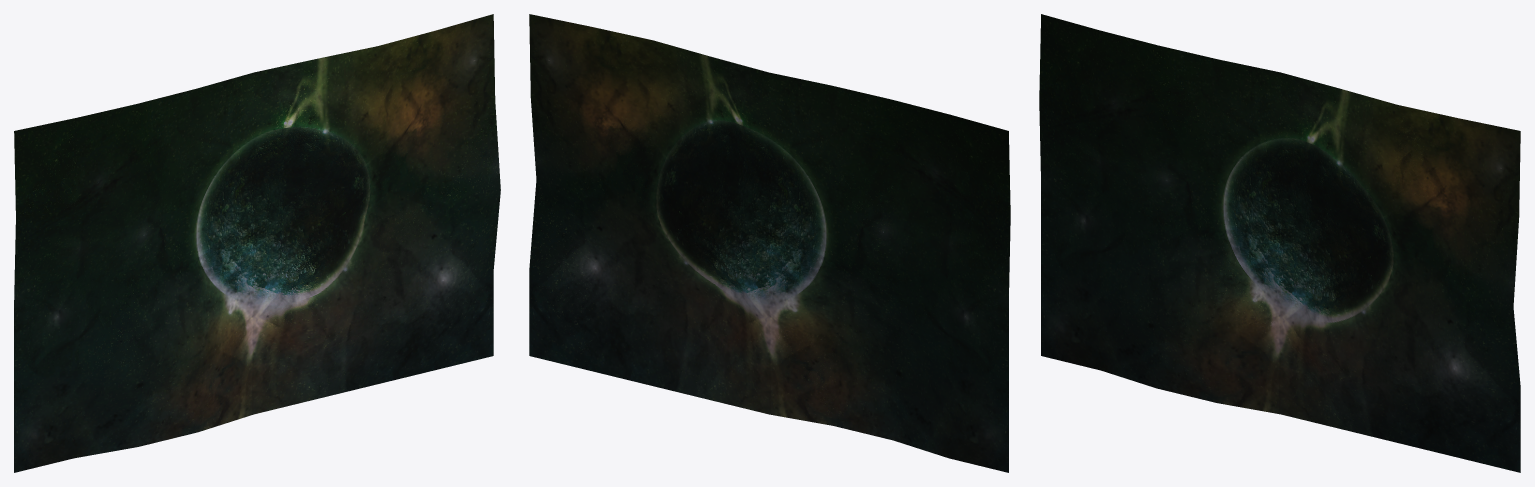
File: poster_planet.dae
The picture shows the model from 3 angles, left to right: view 1: azimuth 30°, elevation 25°; view 2: azimuth 150°, elevation 25°; view 3: azimuth 330°, elevation 25°; orthographic projection.
Parts seen in each view (by area): view 1: pPlane1; view 2: pPlane1; view 3: pPlane1.
Part boxes in pixels (bbox=[...]): pPlane1: bbox=[14, 14, 500, 472]; pPlane1: bbox=[529, 14, 1010, 472]; pPlane1: bbox=[1039, 14, 1520, 472].
Size of the model in its own units: 0.701 by 0.4776 by 0.0239.
